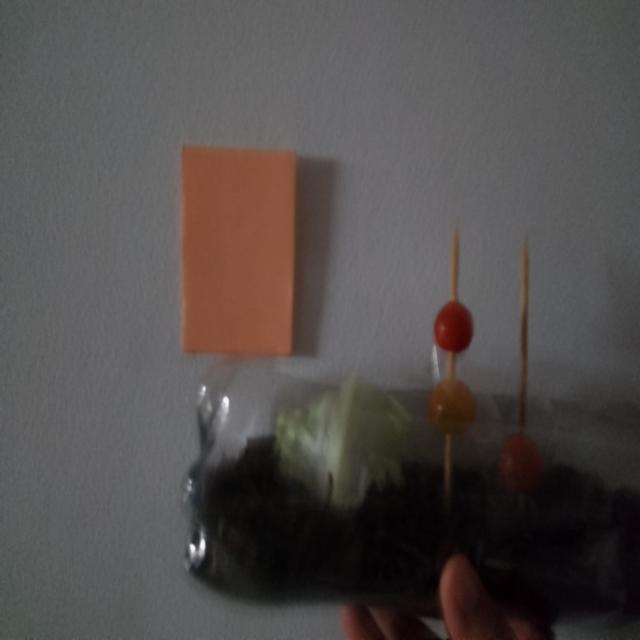card: (182, 147, 297, 356)
fruit_maturation: (429, 378, 476, 434)
fully_grown: (498, 433, 544, 493), (434, 300, 473, 353)
